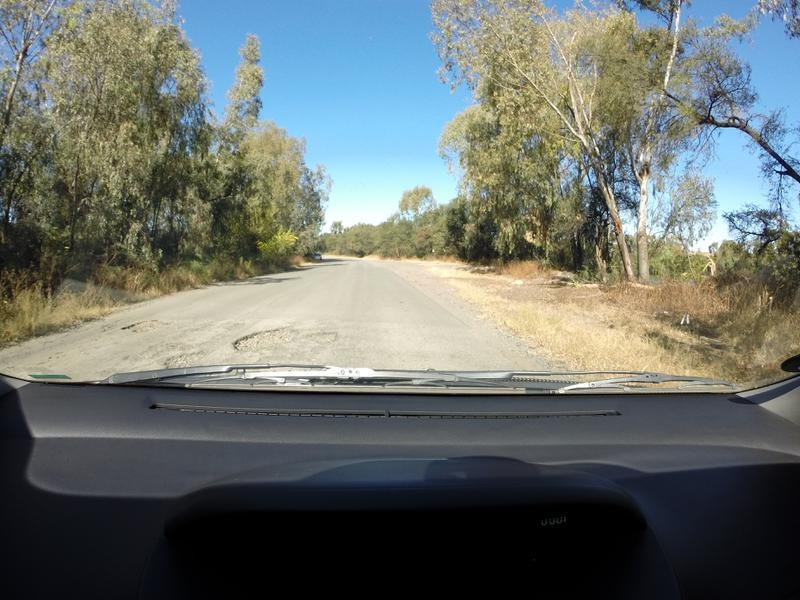pothole: (232, 321, 296, 349), (111, 317, 159, 343), (165, 343, 201, 366), (301, 327, 338, 347)
